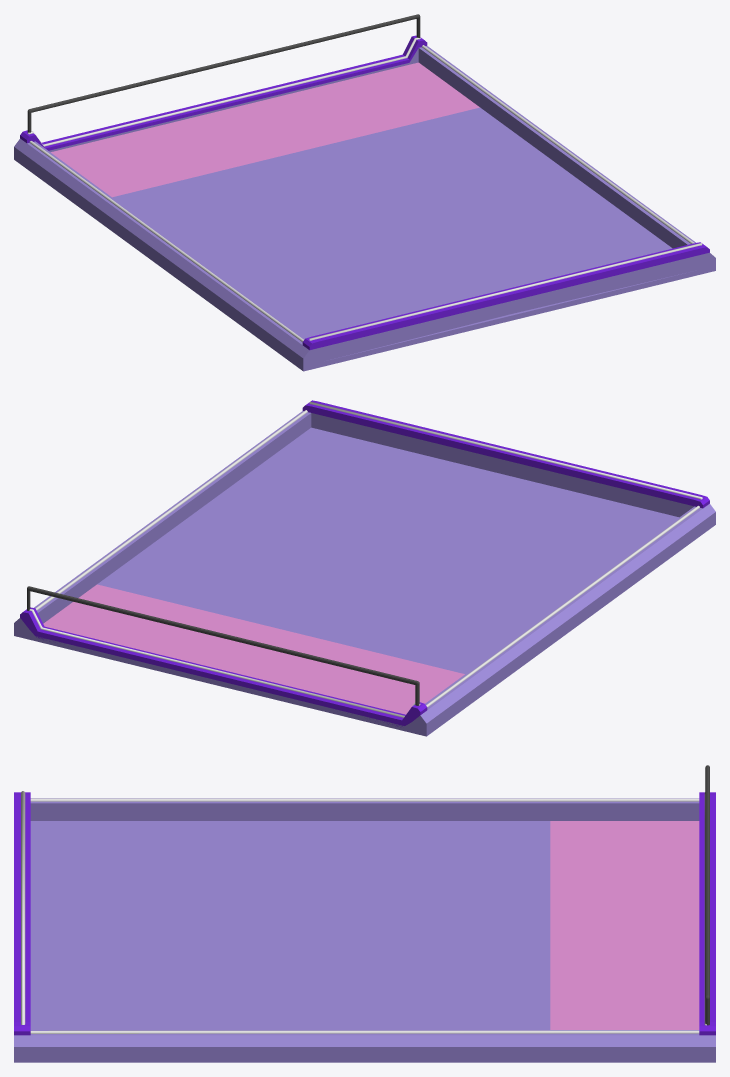
The model's file is Platform 3.2.fbx.
The picture shows the model from 3 angles, top to bottom: view 1: azimuth 30°, elevation 25°; view 2: azimuth 150°, elevation 25°; view 3: azimuth 270°, elevation 25°; orthographic projection. The views are drawn at different scales.
Parts seen in each view (by area): view 1: Platform 3.2; view 2: Platform 3.2; view 3: Platform 3.2.
Boxes of the visible parts, box(x1,y1,x2,y2) form: Platform 3.2: box(14, 14, 715, 371); Platform 3.2: box(14, 400, 715, 736); Platform 3.2: box(14, 765, 715, 1062).
Size of the model in its own units: 2504 by 289 by 3043.
